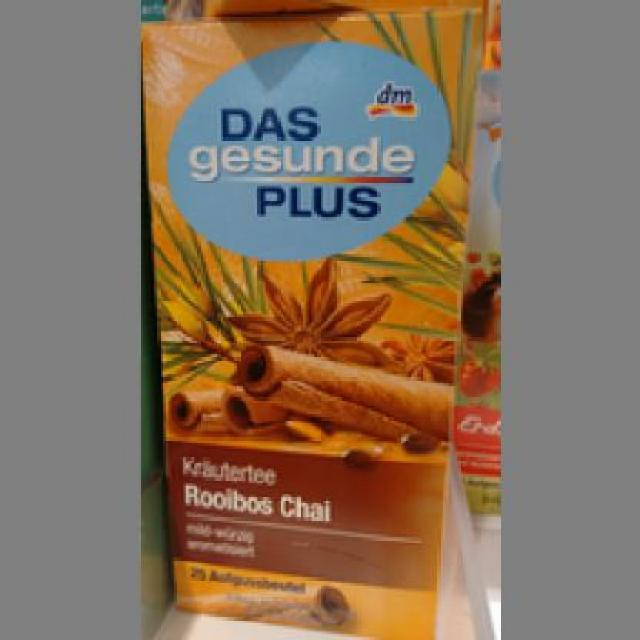Tea: (137, 6, 490, 634)
